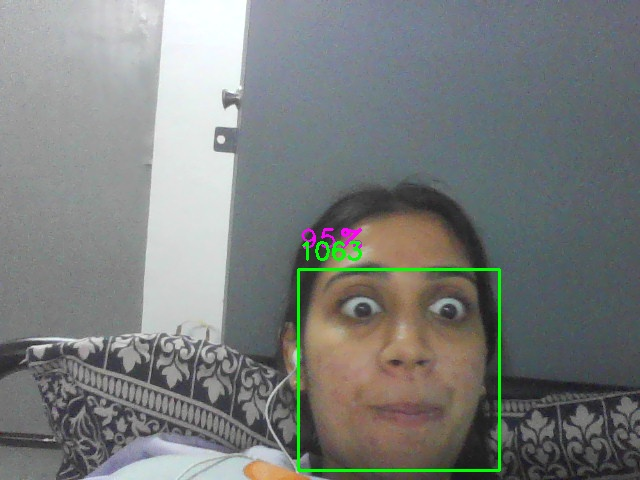real: (298, 269, 500, 471)
